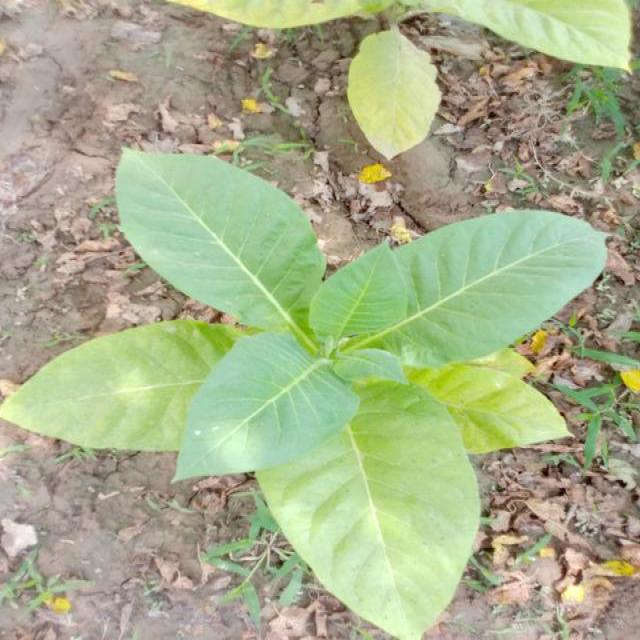crop: (13, 144, 599, 618), (193, 0, 627, 132)
